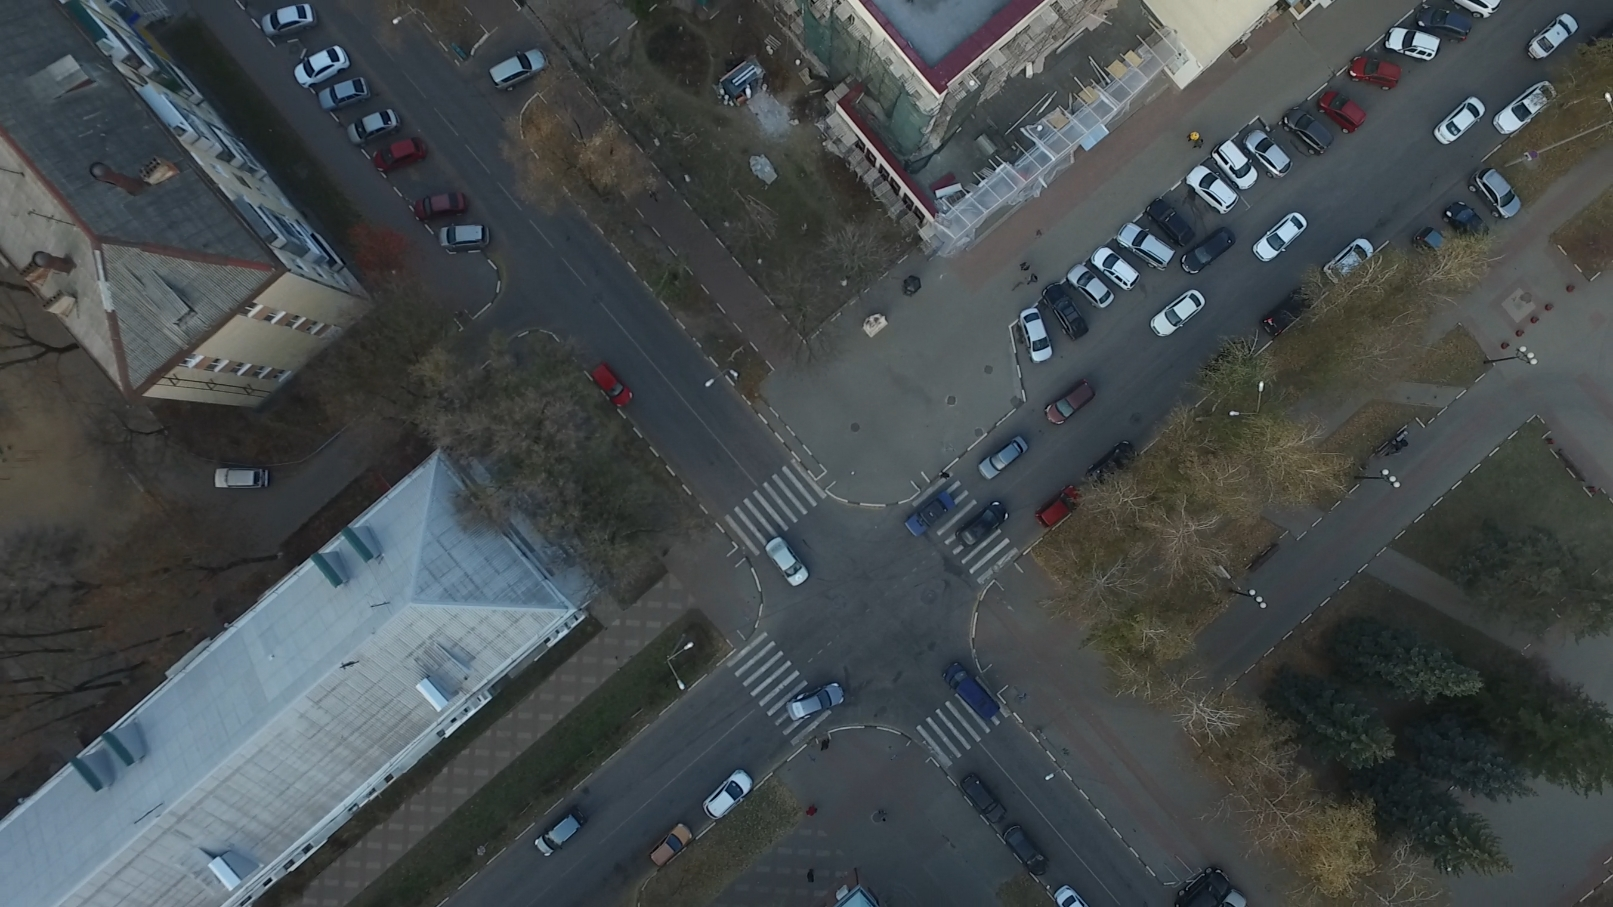car: (944, 663, 1003, 724), (1490, 81, 1557, 132), (1114, 221, 1173, 276), (1466, 165, 1523, 218), (1244, 210, 1306, 259), (1525, 16, 1580, 69), (1177, 227, 1236, 275), (1145, 291, 1210, 336), (1181, 164, 1236, 215), (489, 49, 555, 91), (1257, 291, 1315, 339), (530, 811, 589, 856), (700, 771, 756, 820), (1429, 97, 1489, 142), (1040, 285, 1088, 340), (1083, 441, 1140, 487), (1321, 238, 1378, 282), (1065, 266, 1118, 313), (1246, 128, 1294, 182), (974, 436, 1034, 478), (1044, 380, 1099, 425), (291, 44, 352, 85), (1001, 824, 1045, 882), (1090, 245, 1139, 296), (1282, 109, 1329, 161), (958, 770, 1004, 824), (946, 507, 1001, 552), (785, 678, 845, 719), (1445, 198, 1494, 247), (902, 496, 958, 538), (1211, 140, 1260, 188), (1143, 197, 1195, 243), (1318, 89, 1366, 137), (764, 538, 809, 589), (1419, 1, 1470, 45), (1031, 483, 1083, 526), (649, 823, 697, 868), (1387, 22, 1438, 64), (346, 107, 397, 147), (590, 365, 634, 412), (1020, 309, 1055, 365), (1348, 53, 1398, 92), (372, 140, 429, 172), (260, 6, 319, 35), (1411, 225, 1453, 266), (316, 80, 373, 110), (213, 465, 267, 492), (436, 223, 489, 250), (415, 193, 468, 219), (1441, 1, 1501, 14)
